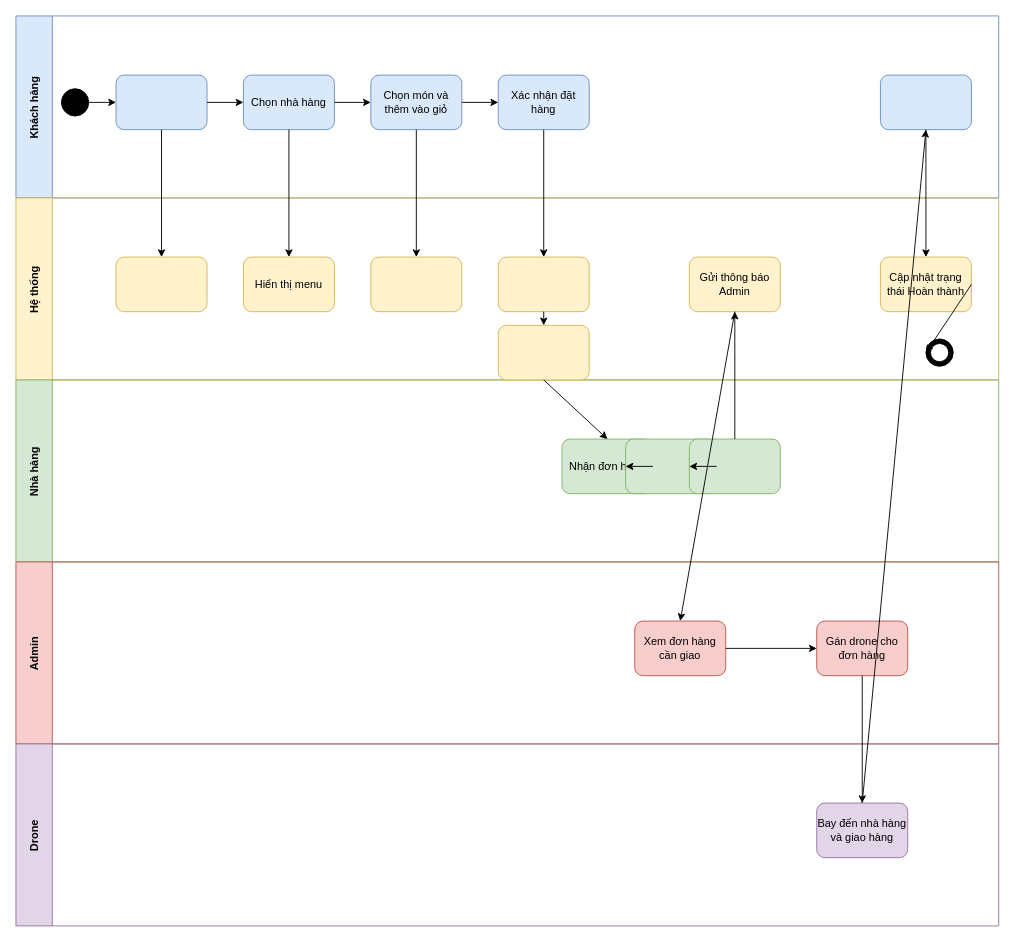
Some shapes in this 1015 by 942 pixel diagram are drawn without their labels. The centre of each missing label's shape, as x and y in pixels:
Cập nhật giỏ hàng: [416,284]
Gửi thông báo đến nhà hàng: [543,352]
Hiển thị danh sách nhà hàng: [161,284]
Hoàn thành món: [734,466]
Mở ứng dụng: [161,102]
Nhận hàng và xác nhận: [925,102]
Tạo đơn hàng mới: [543,284]
Xác nhận và chuẩn bị món: [671,466]
